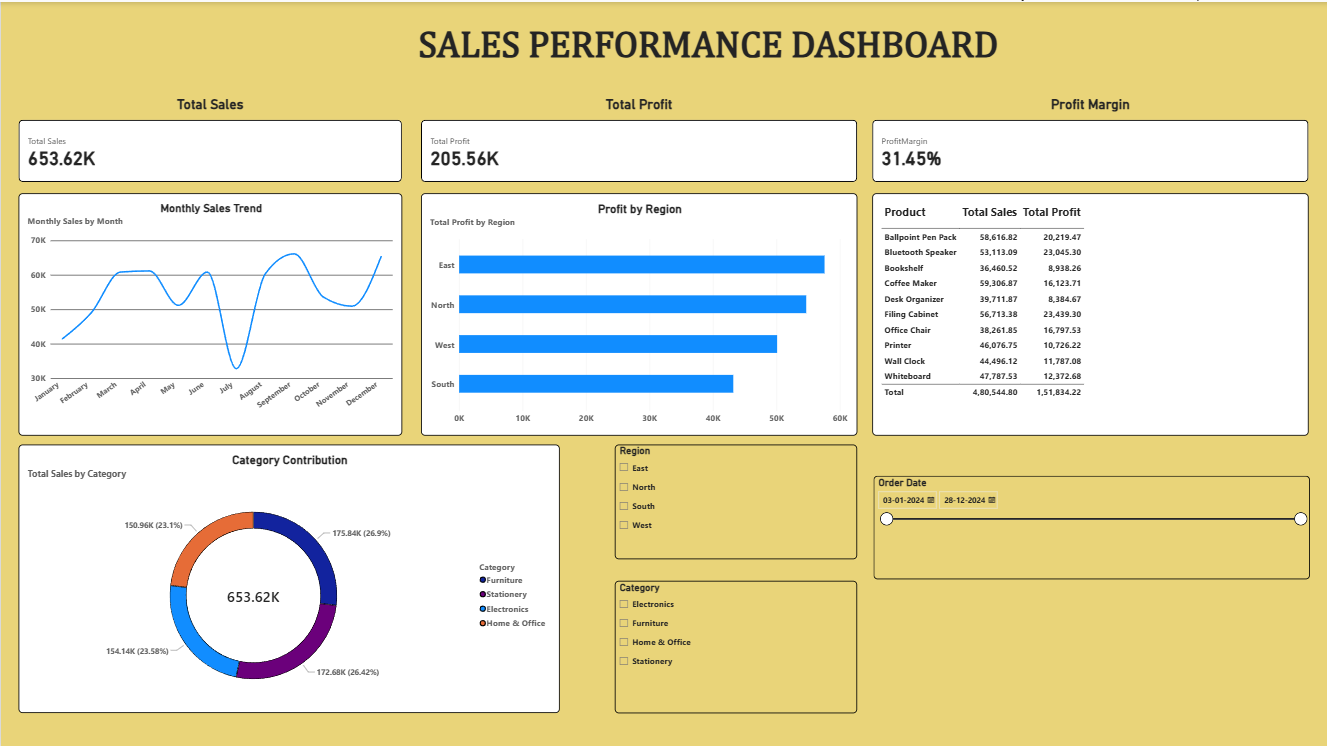

The page's visual inventory and layout, read from the dashboard file:
{"tool":"powerbi","page":{"name":"Sales_Performance_Dashboard","canvas":[2560,1440],"ordinal":0},"visuals":[{"type":"cardVisual","title":"Total Profit","fields":{"Data":["SalesData.Total Profit"]},"box":[810.7,181,842.1,166.5],"z":1},{"type":"cardVisual","title":"Profit Margin","fields":{"Data":["SalesData.ProfitMargin"]},"box":[1681.8,181,842.1,166.5],"z":2},{"type":"lineChart","title":"Monthly Sales Trend","fields":{"Category":["SalesData.Order Date.Variation.Date Hierarchy.Month"],"Y":["SalesData.Monthly Sales"]},"box":[33.8,369.2,740.8,468.1],"z":3},{"type":"clusteredBarChart","title":"Profit by Region","fields":{"Category":["SalesData.Region"],"Y":["SalesData.Total Profit"]},"box":[810.7,369.2,842.1,468.1],"z":4},{"type":"tableEx","fields":{"Values":["SalesData.Product","SalesData.Total Sales","SalesData.Total Profit"]},"box":[1681.8,369.2,842.1,468.1],"z":5},{"type":"donutChart","title":"Category Contribution","fields":{"Category":["SalesData.Category"],"Y":["SalesData.Total Sales"]},"box":[33.8,854.2,1044.8,518.8],"z":6},{"type":"slicer","fields":{"Values":["SalesData.Region"]},"box":[1184.7,854.2,468.1,222],"z":7},{"type":"slicer","fields":{"Values":["SalesData.Category"]},"box":[1184.7,1117.2,468.1,255.8],"z":8},{"type":"slicer","fields":{"Values":["SalesData.Order Date"]},"box":[1684.2,914.5,842.1,200.3],"z":9},{"type":"cardVisual","title":"Total Sales","fields":{"Data":["SalesData.Total Sales"]},"box":[33.8,181,740.8,166.5],"z":10},{"type":"textbox","box":[728.7,43.4,1274,120.6],"z":11}]}

Visuals, with their boxes in screenshot pixels (x1, y1, x2, y2), scaled from the page's 2560x1440 canvas onto the 1327x746 screenshot:
"Total Profit" cardVisual: (x1=420, y1=94, x2=857, y2=180)
"Profit Margin" cardVisual: (x1=872, y1=94, x2=1308, y2=180)
"Monthly Sales Trend" lineChart: (x1=18, y1=191, x2=402, y2=434)
"Profit by Region" clusteredBarChart: (x1=420, y1=191, x2=857, y2=434)
tableEx - SalesData.Product x SalesData.Total Sales: (x1=872, y1=191, x2=1308, y2=434)
"Category Contribution" donutChart: (x1=18, y1=443, x2=559, y2=711)
slicer - SalesData.Region: (x1=614, y1=443, x2=857, y2=558)
slicer - SalesData.Category: (x1=614, y1=579, x2=857, y2=711)
slicer - SalesData.Order Date: (x1=873, y1=474, x2=1310, y2=578)
"Total Sales" cardVisual: (x1=18, y1=94, x2=402, y2=180)
textbox: (x1=378, y1=22, x2=1038, y2=85)
